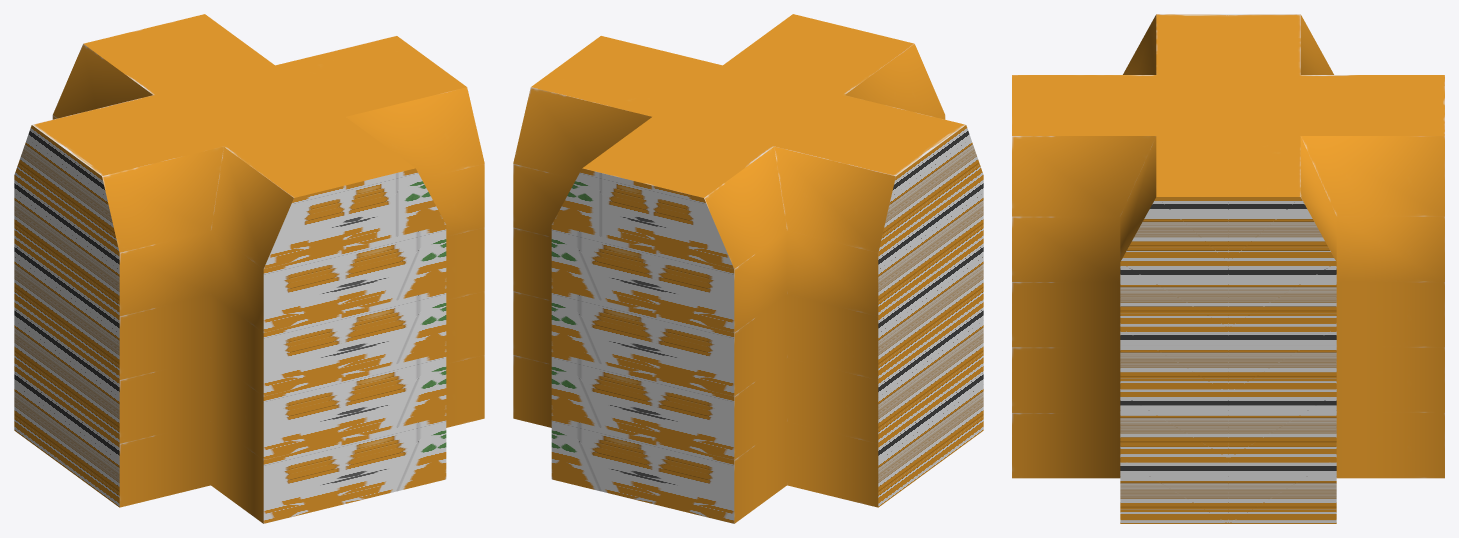
The model's file is platform_crossing.FBX.
3 renders of one model, left to right at view 1: azimuth 30°, elevation 25°; view 2: azimuth 150°, elevation 25°; view 3: azimuth 270°, elevation 25°, orthographic. The views are drawn at different scales.
Parts seen in each view (by area): view 1: kruising; view 2: kruising; view 3: kruising.
Boxes of the visible parts, x1=… form: kruising: x1=14, y1=14, x2=484, y2=523; kruising: x1=513, y1=14, x2=983, y2=523; kruising: x1=1012, y1=14, x2=1444, y2=523.
Bounding box in the file's own units: 300 × 250 × 300.
